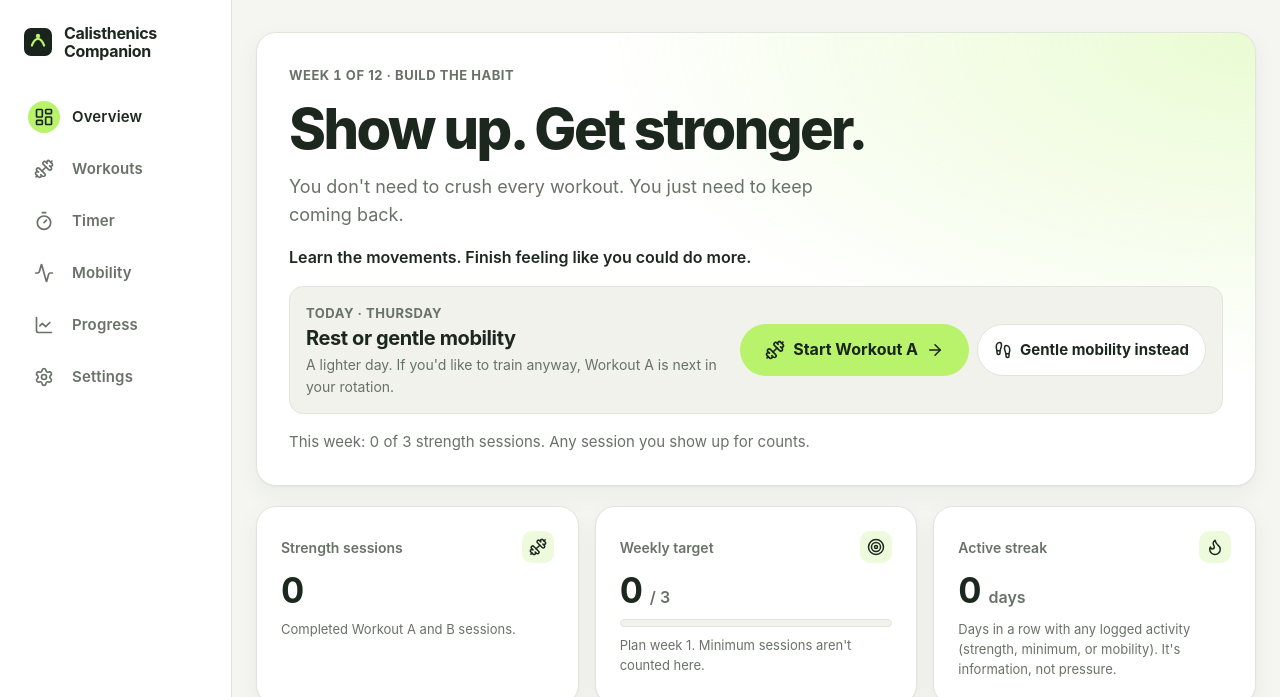
it: Calisthenics Companion app › runs the guided mobility routine with next and skip
Click the link "Mobility": (83, 273) x1=34 y1=263 x2=132 y2=283
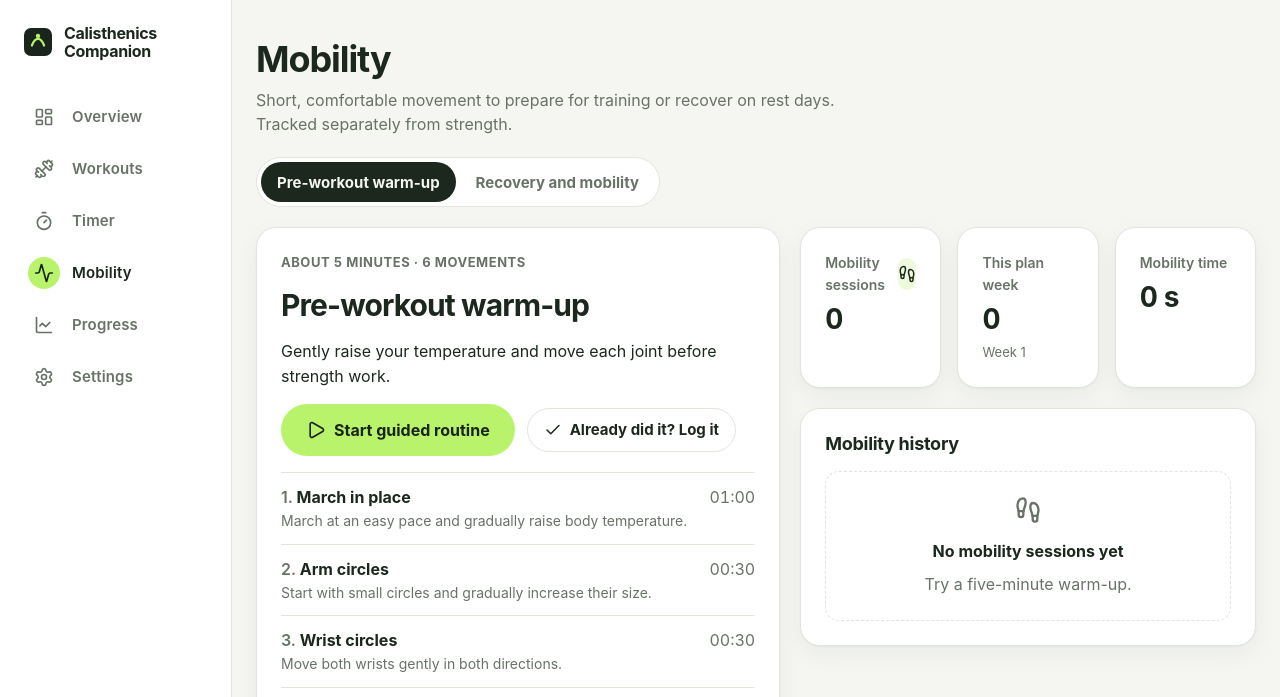
Click the button "Start guided routine": (398, 430) x1=281 y1=404 x2=515 y2=456
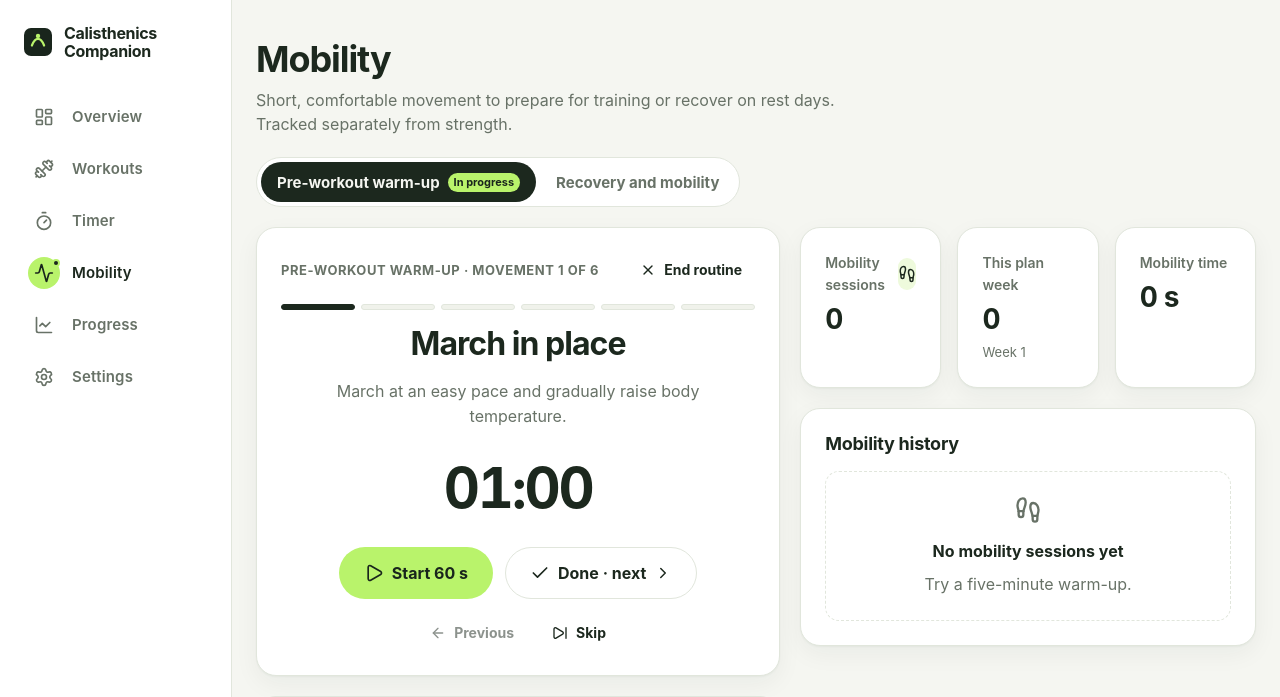
expect the heading "March in place" is shown: met, box x1=411 y1=324 x2=626 y2=363
Click the button "Done · next": (601, 573) x1=505 y1=547 x2=697 y2=599
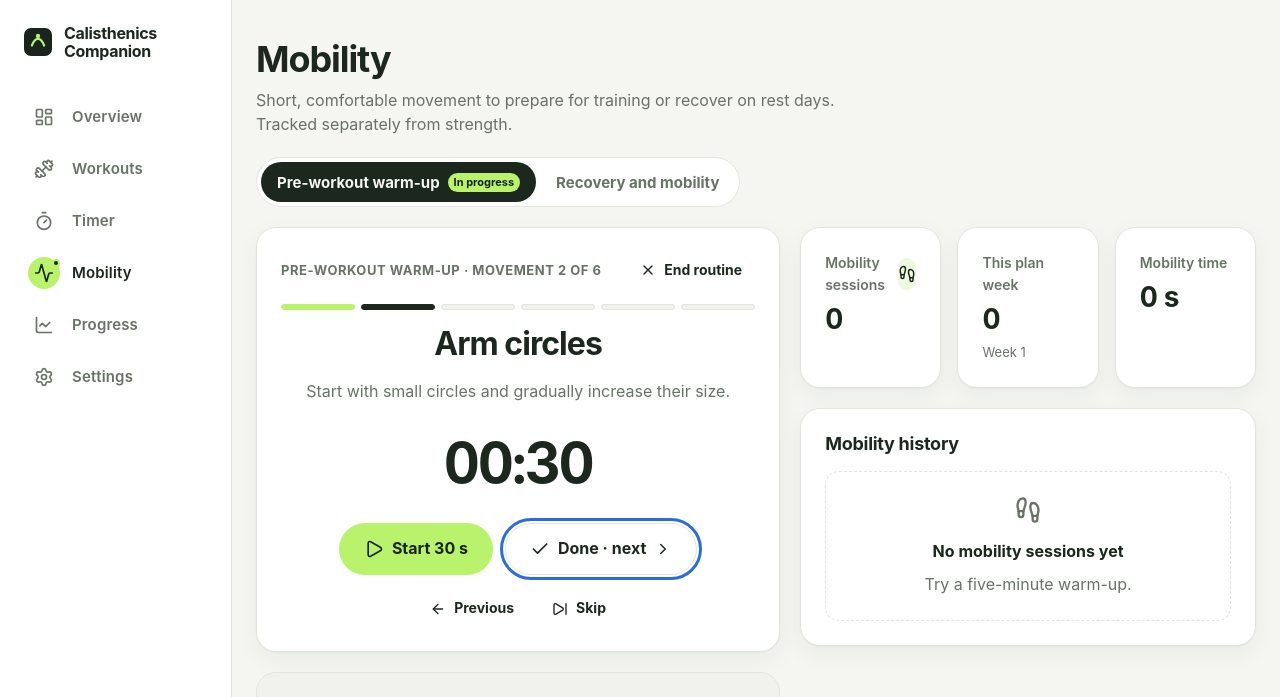
expect the heading "Arm circles" is shown: met, box x1=434 y1=324 x2=602 y2=363
Click the button "Skip": (579, 609) x1=539 y1=591 x2=619 y2=627
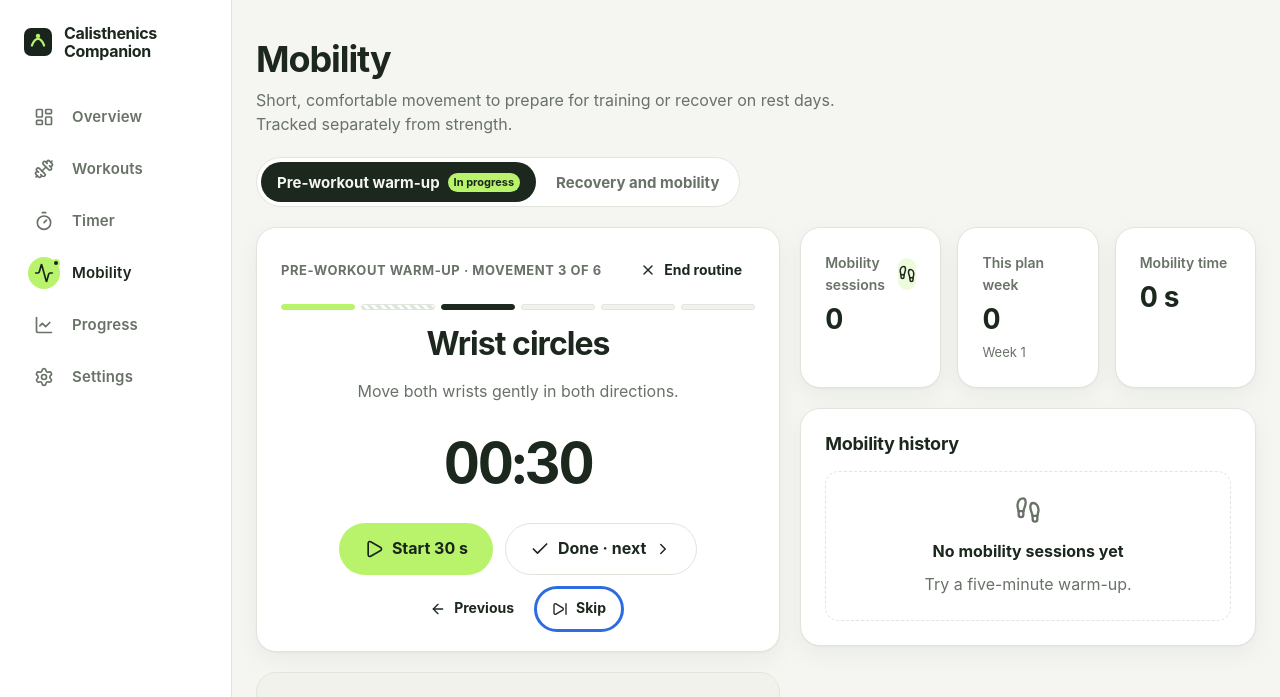
expect the heading "Wrist circles" is shown: met, box x1=427 y1=324 x2=610 y2=363
